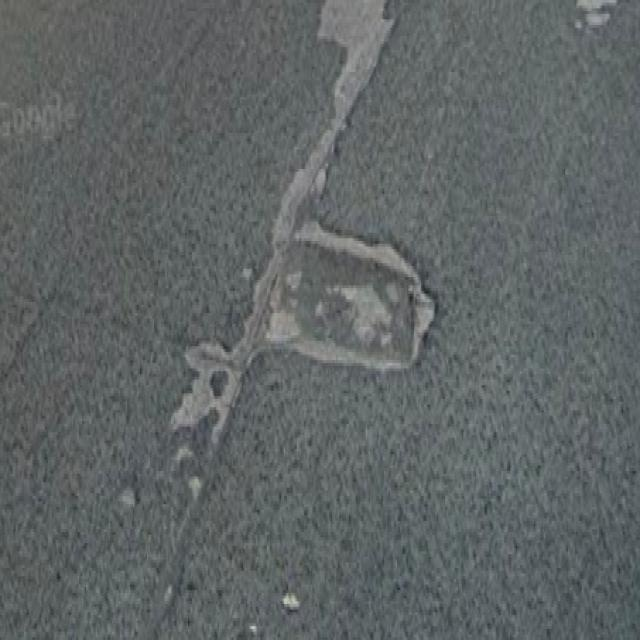pothole: (150, 140, 467, 513), (106, 465, 152, 528)
